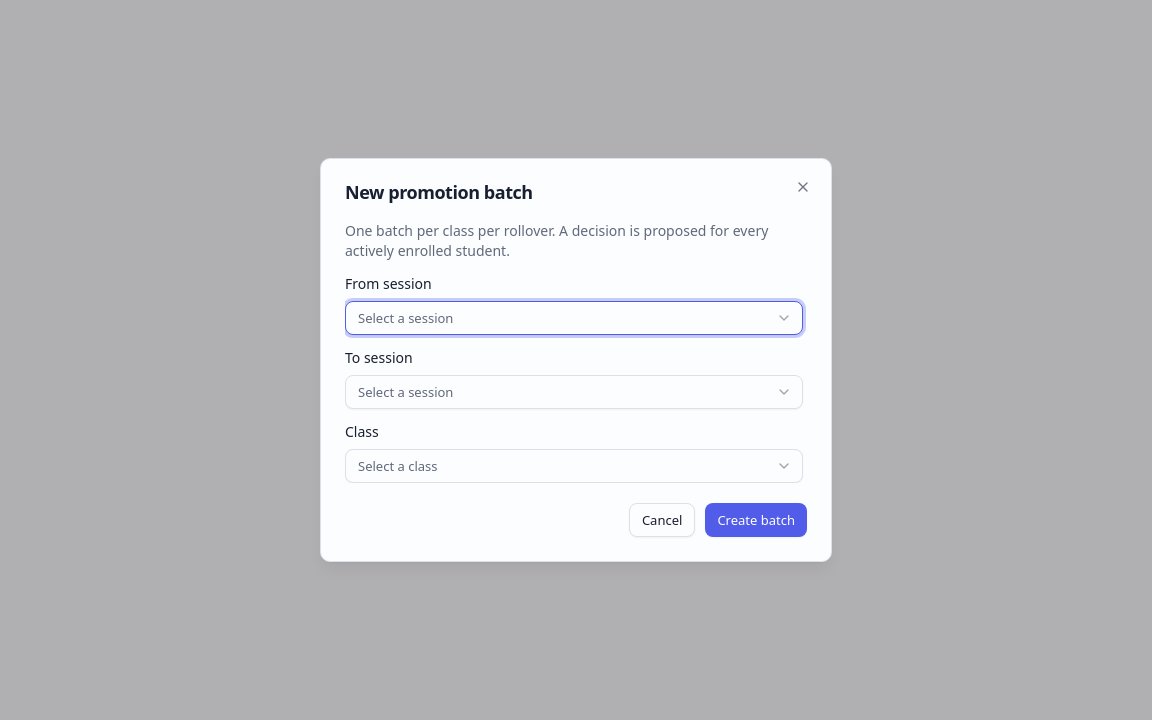
Test: CreatePromotionBatchDialog › creating › asks for the source when none is current, and sends nothing
Click the dropdown named "To session". click: (406, 392)
box: [345,375,803,409]
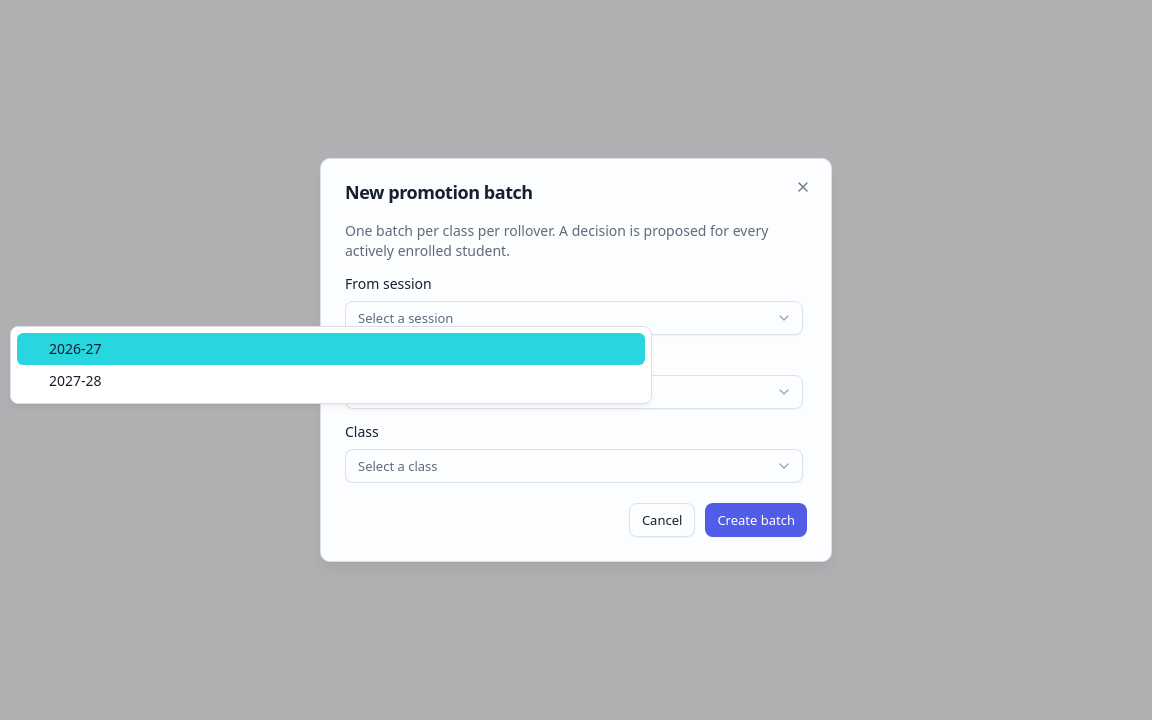
Click the option "2027-28". click: (75, 380)
box: [49,371,102,390]
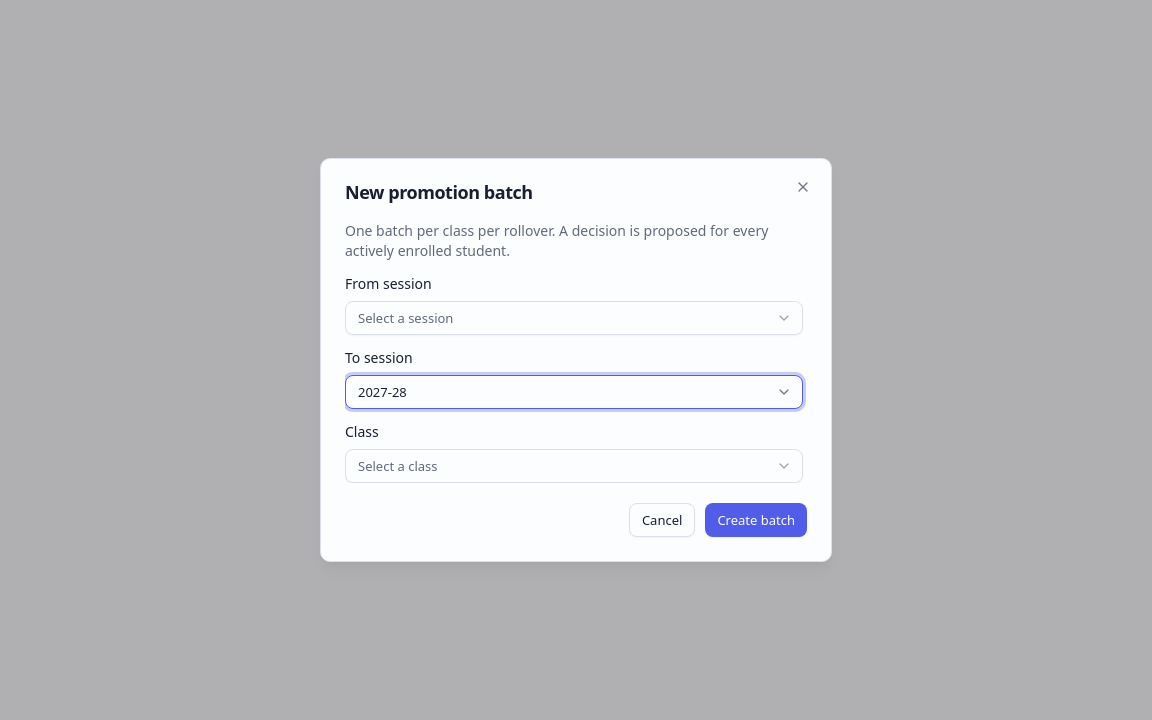
Click the dropdown labelled "class". click: (398, 466)
box: [345,449,803,483]
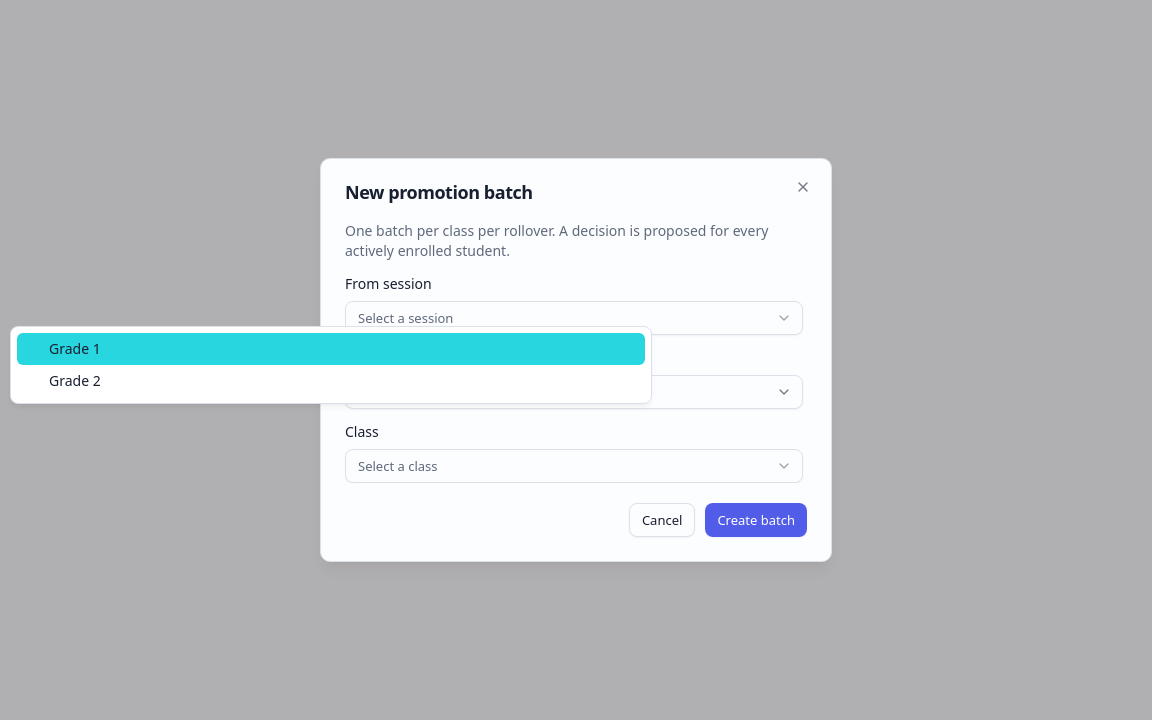
Click the option "Grade 1". click: (75, 348)
box: [17,333,645,365]
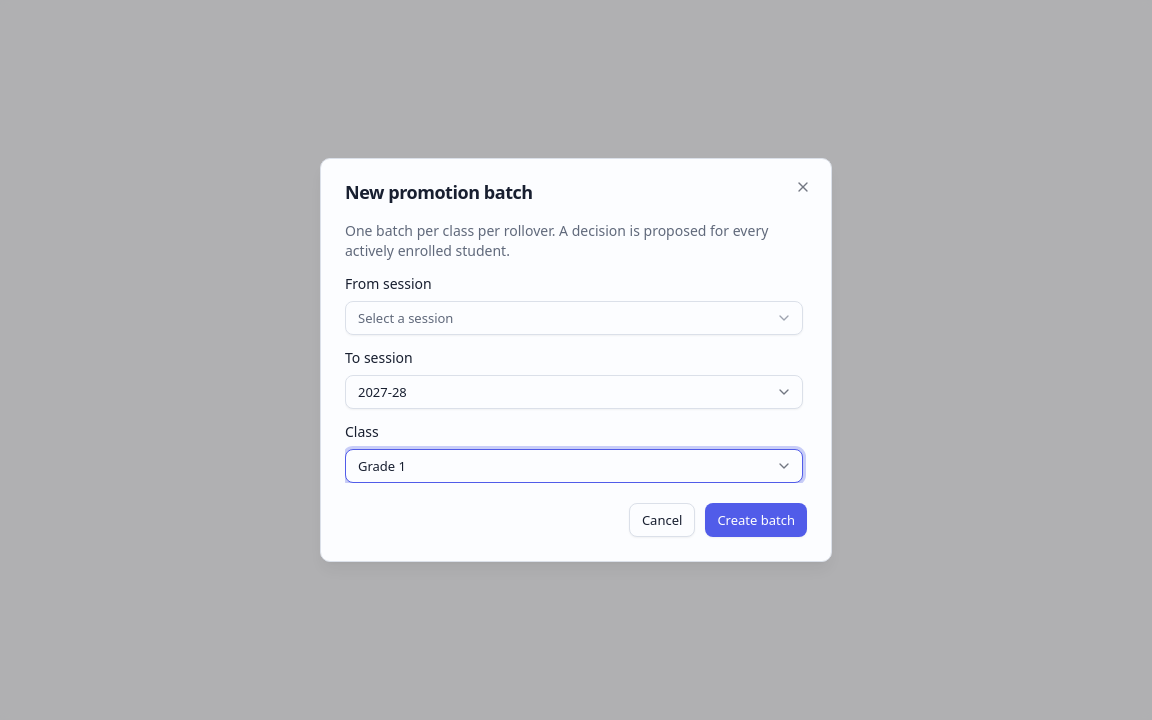
Click the button "Create batch". click: (756, 520)
box: [705,503,807,537]
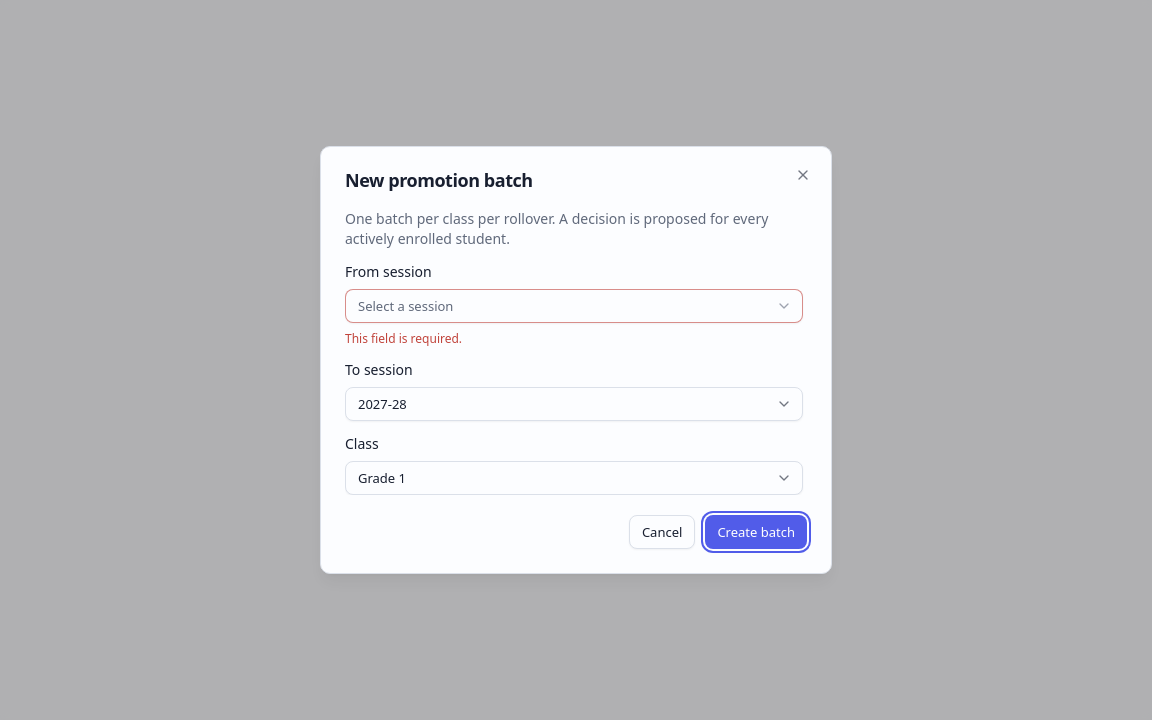
Check: the text "This field is required." is shown, box [345,330,462,347]
